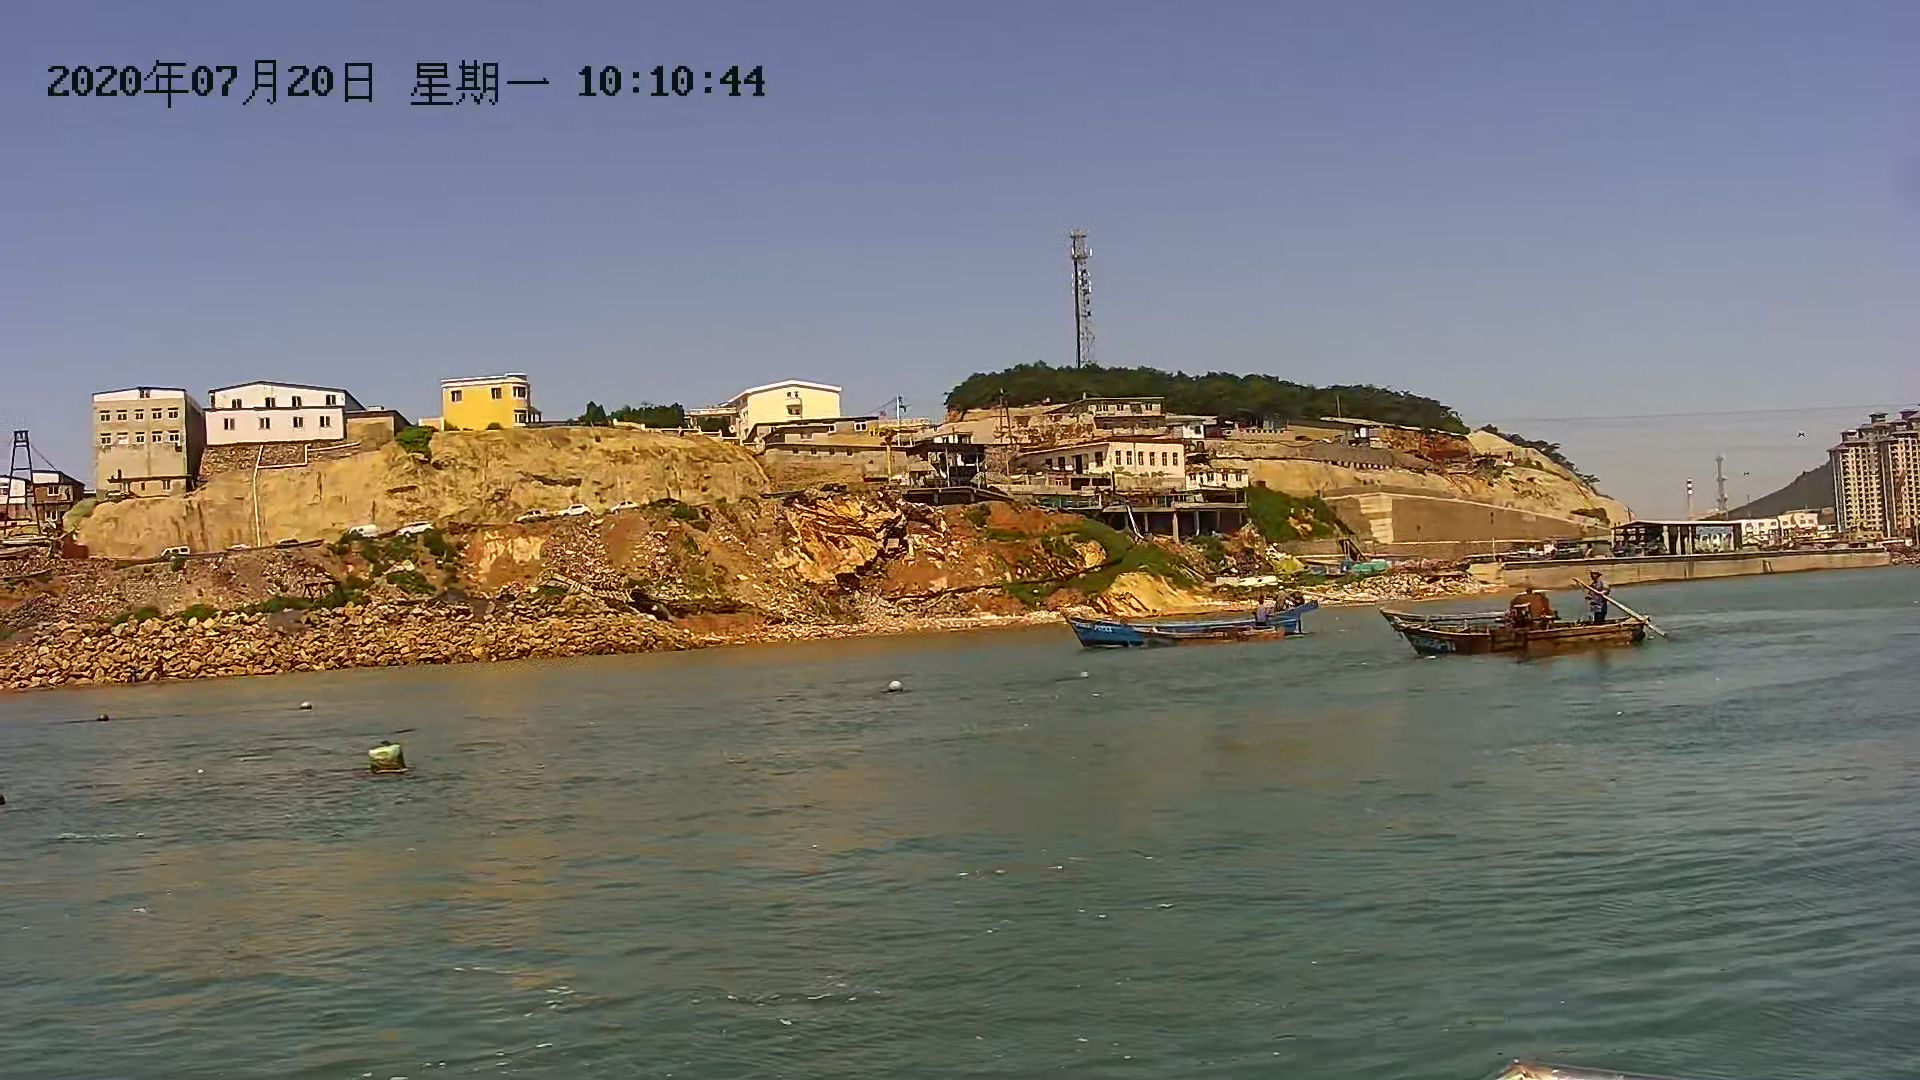boat: (1064, 602, 1318, 654), (1385, 610, 1658, 655)
person: (1582, 563, 1618, 635)
rubbish: (361, 742, 411, 778)
